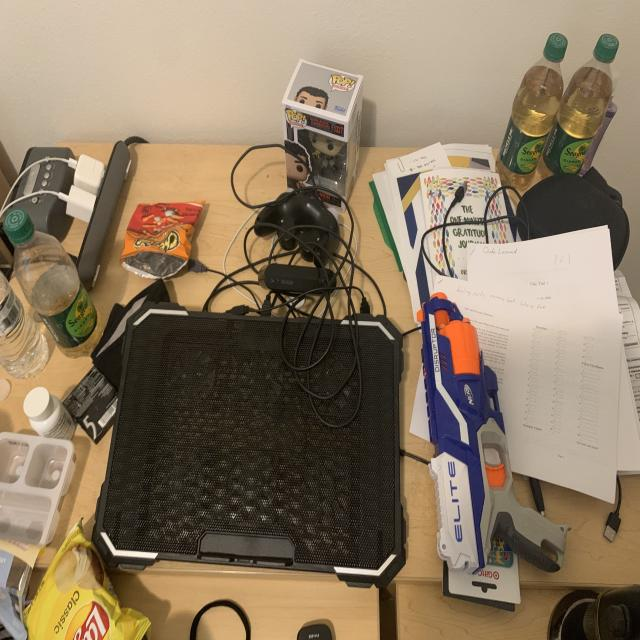nerf-maverik: (407, 275, 577, 594)
